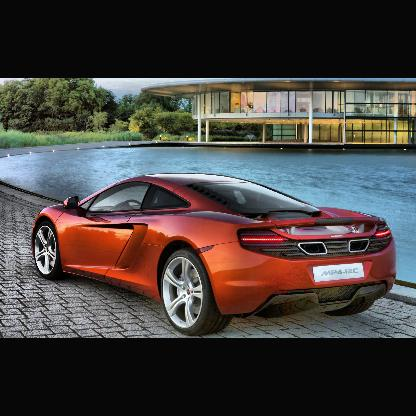McLaren MP4-12C Coupe 2012: (30, 172, 399, 338)
